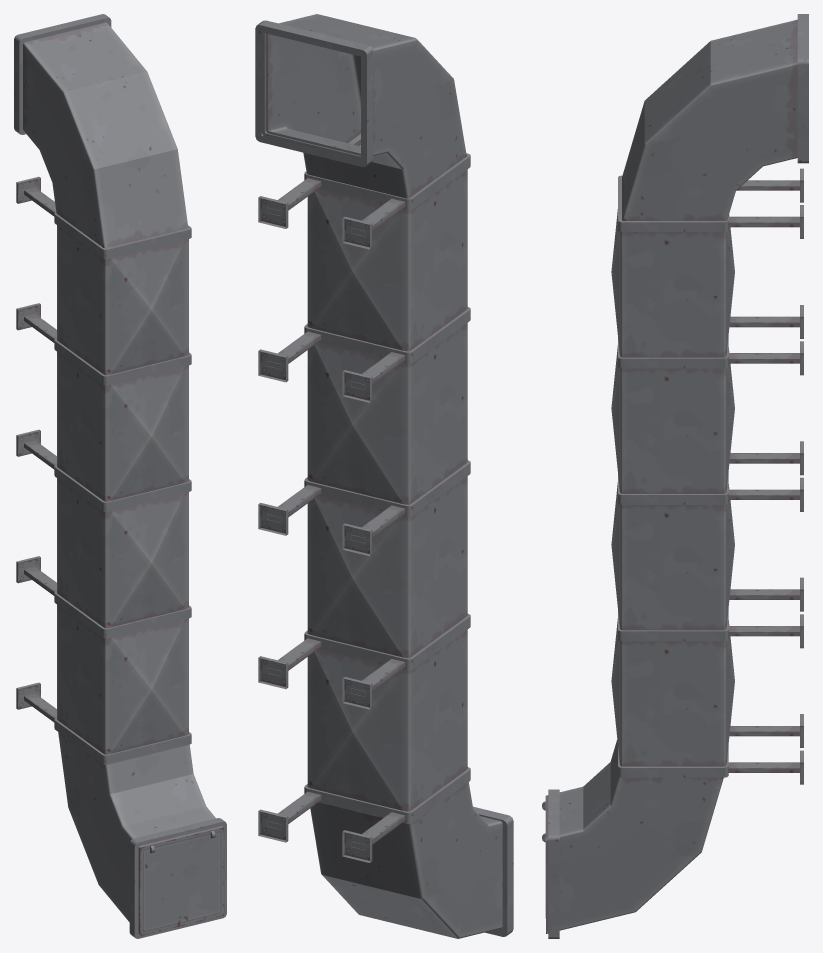
File: Chute1.fbx
3 renders of one model, left to right at view 1: azimuth 30°, elevation 25°; view 2: azimuth 150°, elevation 25°; view 3: azimuth 270°, elevation 25°, orthographic. The views are drawn at different scales.
Parts seen in each view (by area): view 1: polySurface1360; view 2: polySurface1360; view 3: polySurface1360.
Boxes of the visible parts, bbox=[...] form: polySurface1360: bbox=[14, 14, 226, 938]; polySurface1360: bbox=[255, 14, 513, 938]; polySurface1360: bbox=[542, 14, 808, 938].
Bounding box in the file's own units: 38.15 × 323 × 88.66.
